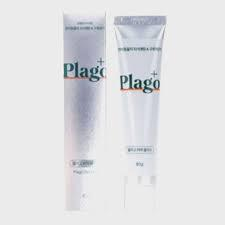toothpaste: (105, 12, 169, 218)
